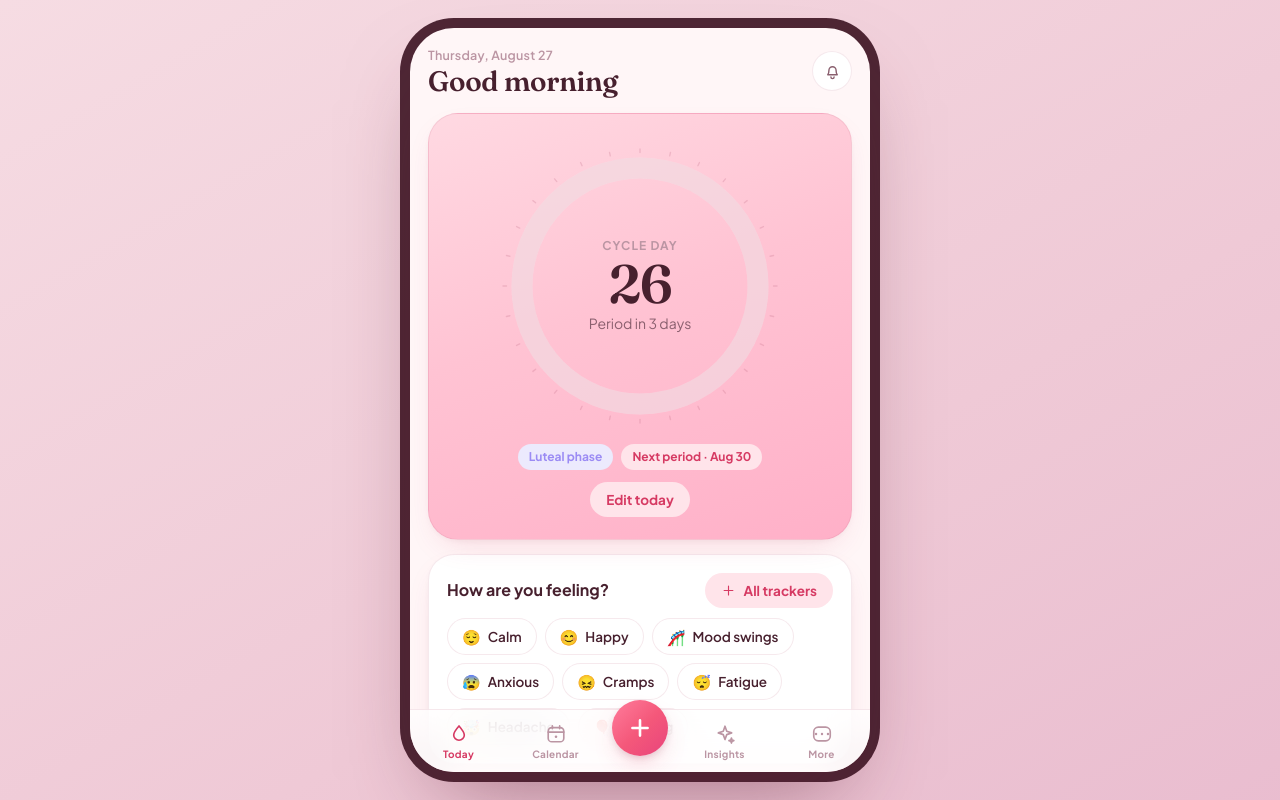
Test: app smoke › opens the log sheet from the center button
Click the button with class "logbtn" at (640, 728), box [612, 700, 668, 756]
(page scrolled)
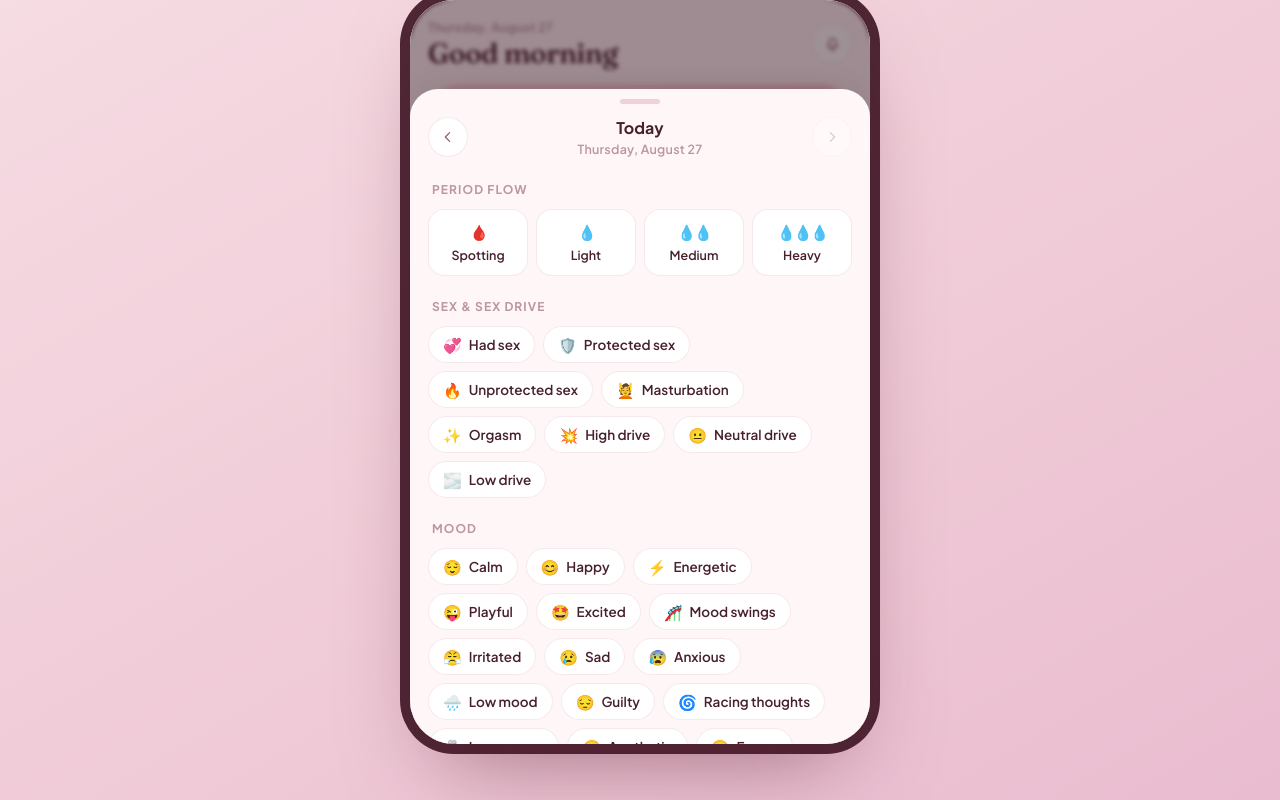
Result: the element that starts with "Thursday, August 27" shows "Period flow" at [432, 182, 528, 196]
